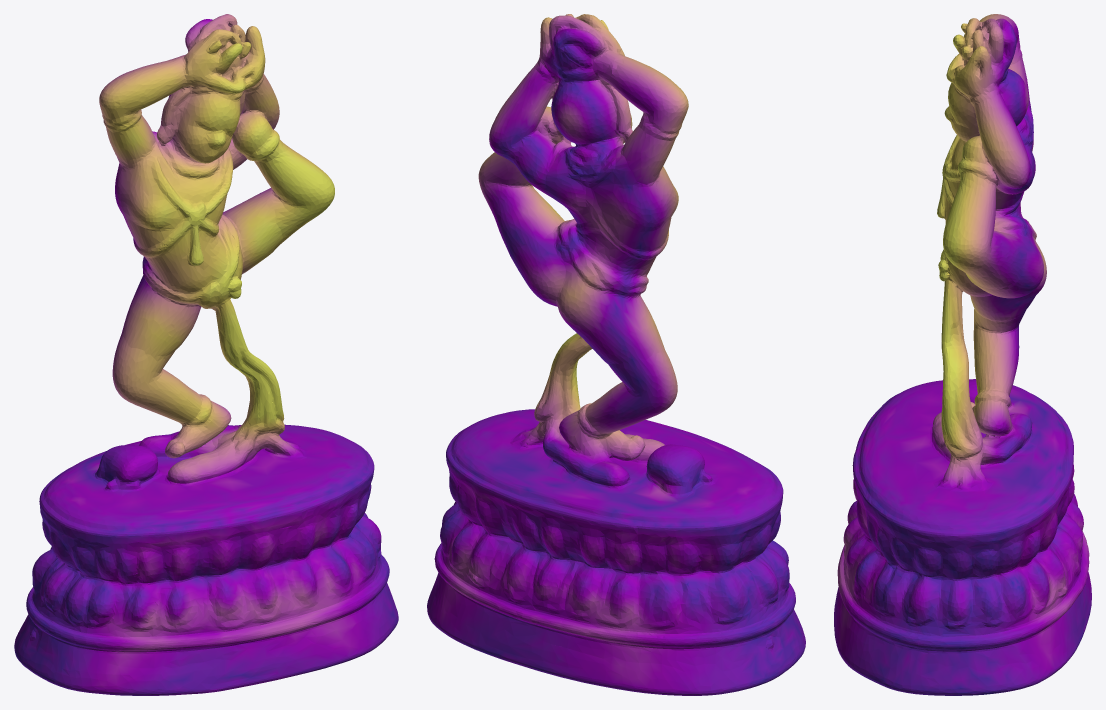
The model's file is iter_12.glb.
3 views of the same model, side by side, from view 1: azimuth 30°, elevation 25°; view 2: azimuth 150°, elevation 25°; view 3: azimuth 270°, elevation 25° (orthographic). The views are drawn at different scales.
Visible parts, largest first — view 1: textured_mesh; view 2: textured_mesh; view 3: textured_mesh.
Part boxes in pixels (x1,y1,x2,y2): textured_mesh: (14,14,398,695); textured_mesh: (427,14,805,695); textured_mesh: (834,14,1091,695).
Size of the model in its own units: 1.18 by 1.98 by 0.7621.
